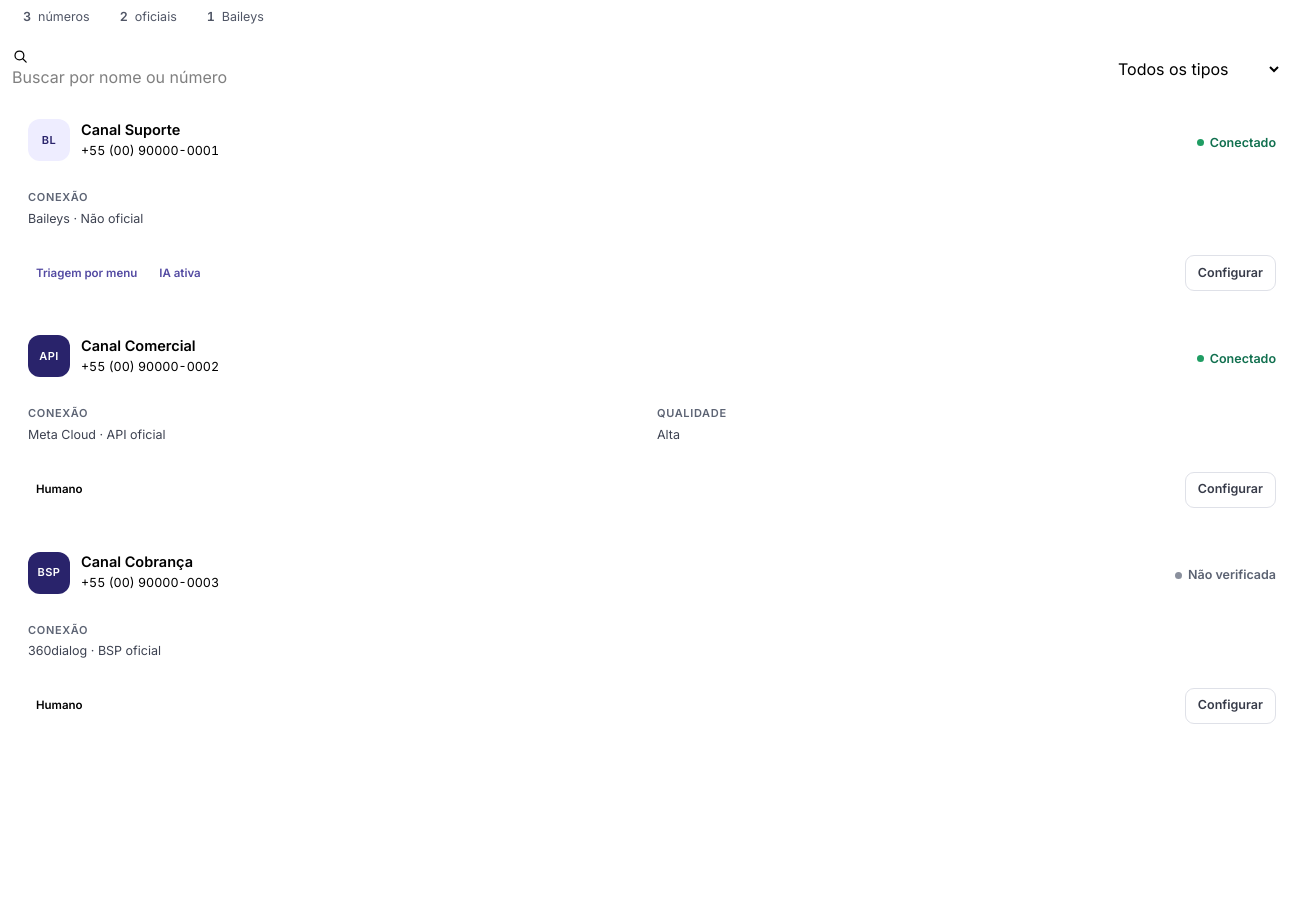
Scenario: Números conectados: busca, filtro e vazio › busca por nome e por número, e diz quantos sobraram
The image size is (1292, 900).
Type "cobr" into the search field labelled "Buscar por nome ou número" at [129, 77], box [12, 65, 246, 89]
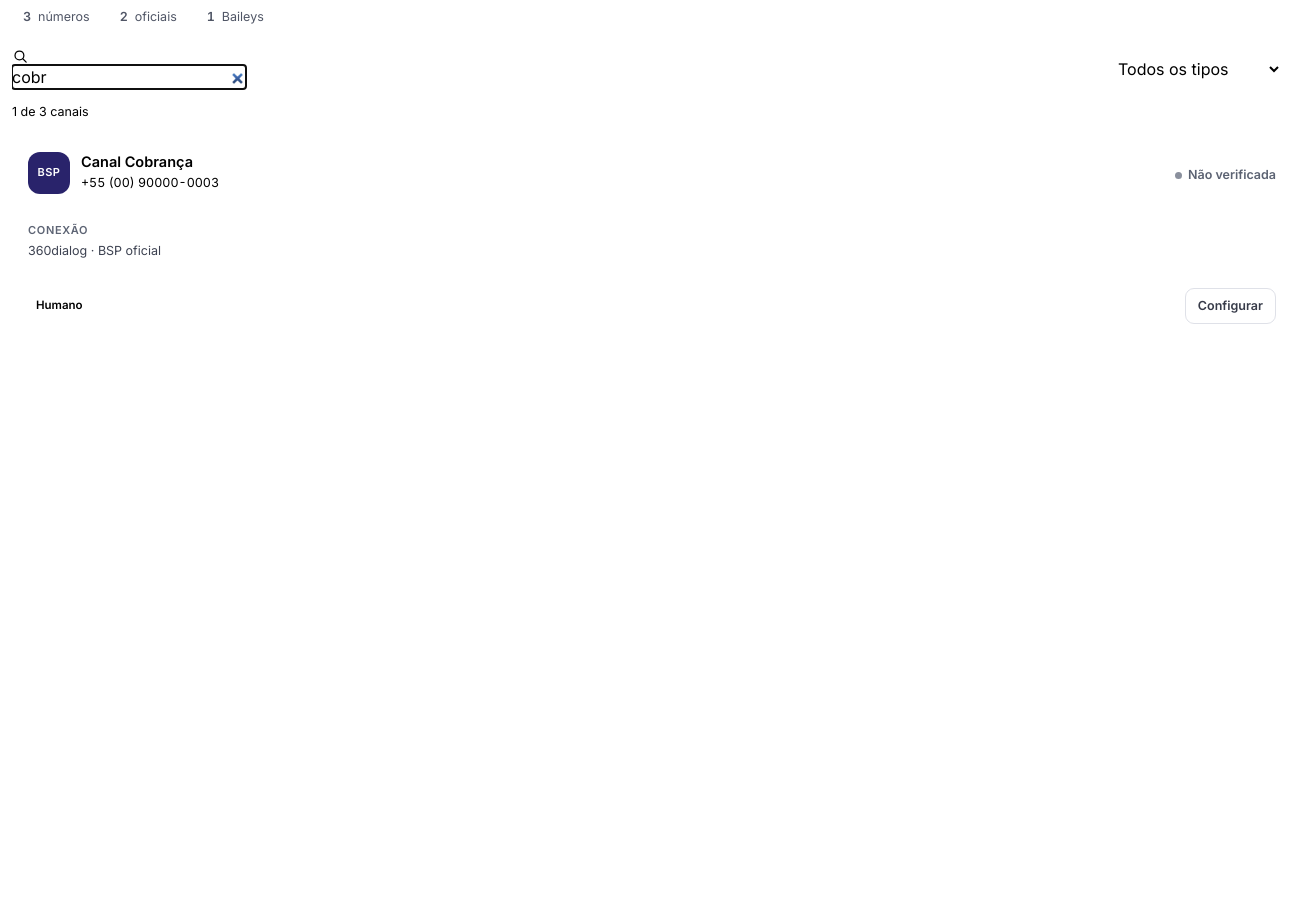
Expected: the links "Canal" read "Canal Cobrança", in this order, [81, 153, 193, 170]
Expected: the text "1 de 3 canais" is shown, [12, 104, 89, 119]
Replace the text in the search field named "Buscar por nome ou número" with "0002" at [129, 77], box [12, 65, 246, 89]
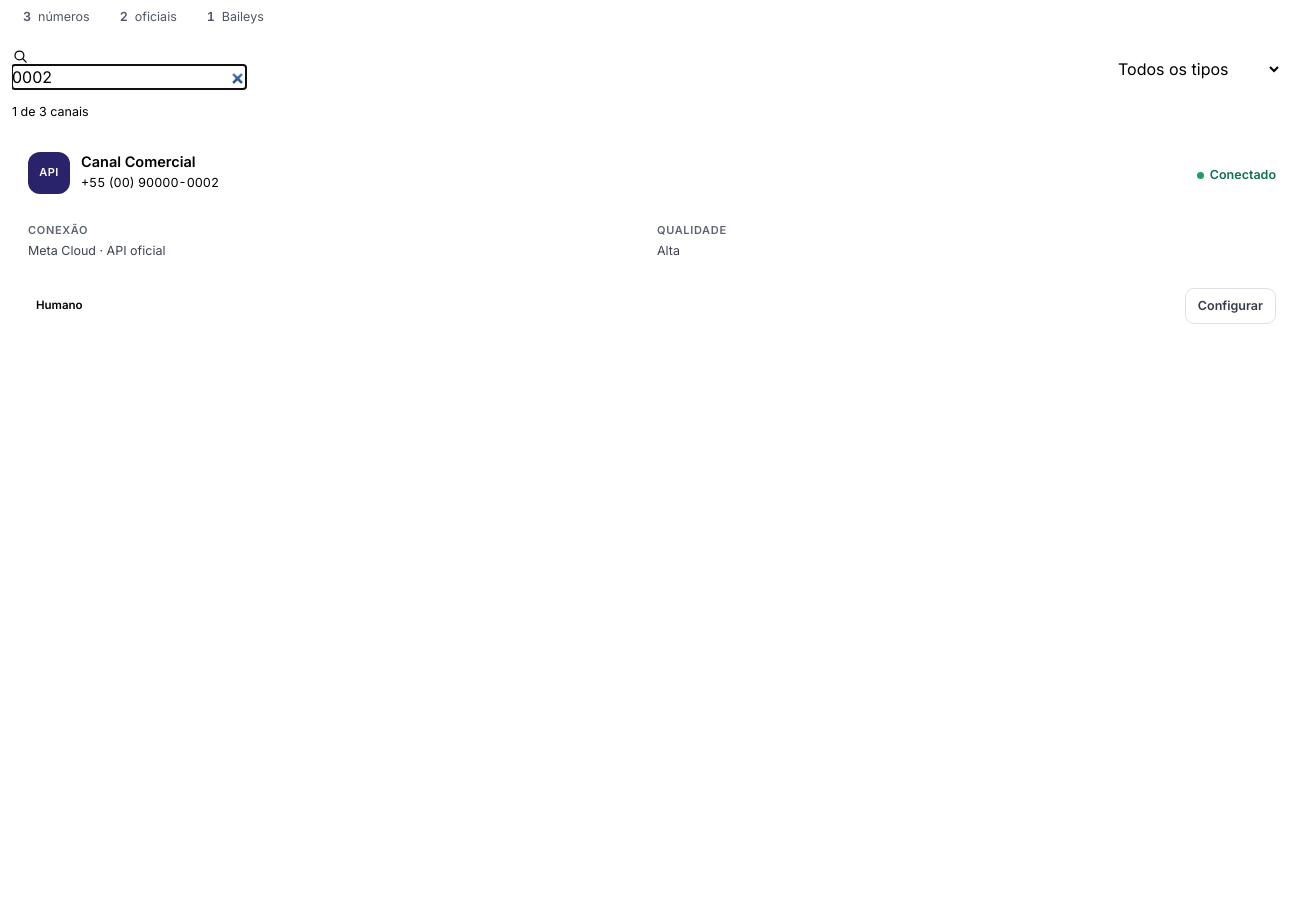
Expected: the links "Canal" read "Canal Comercial", in this order, [81, 153, 196, 170]
